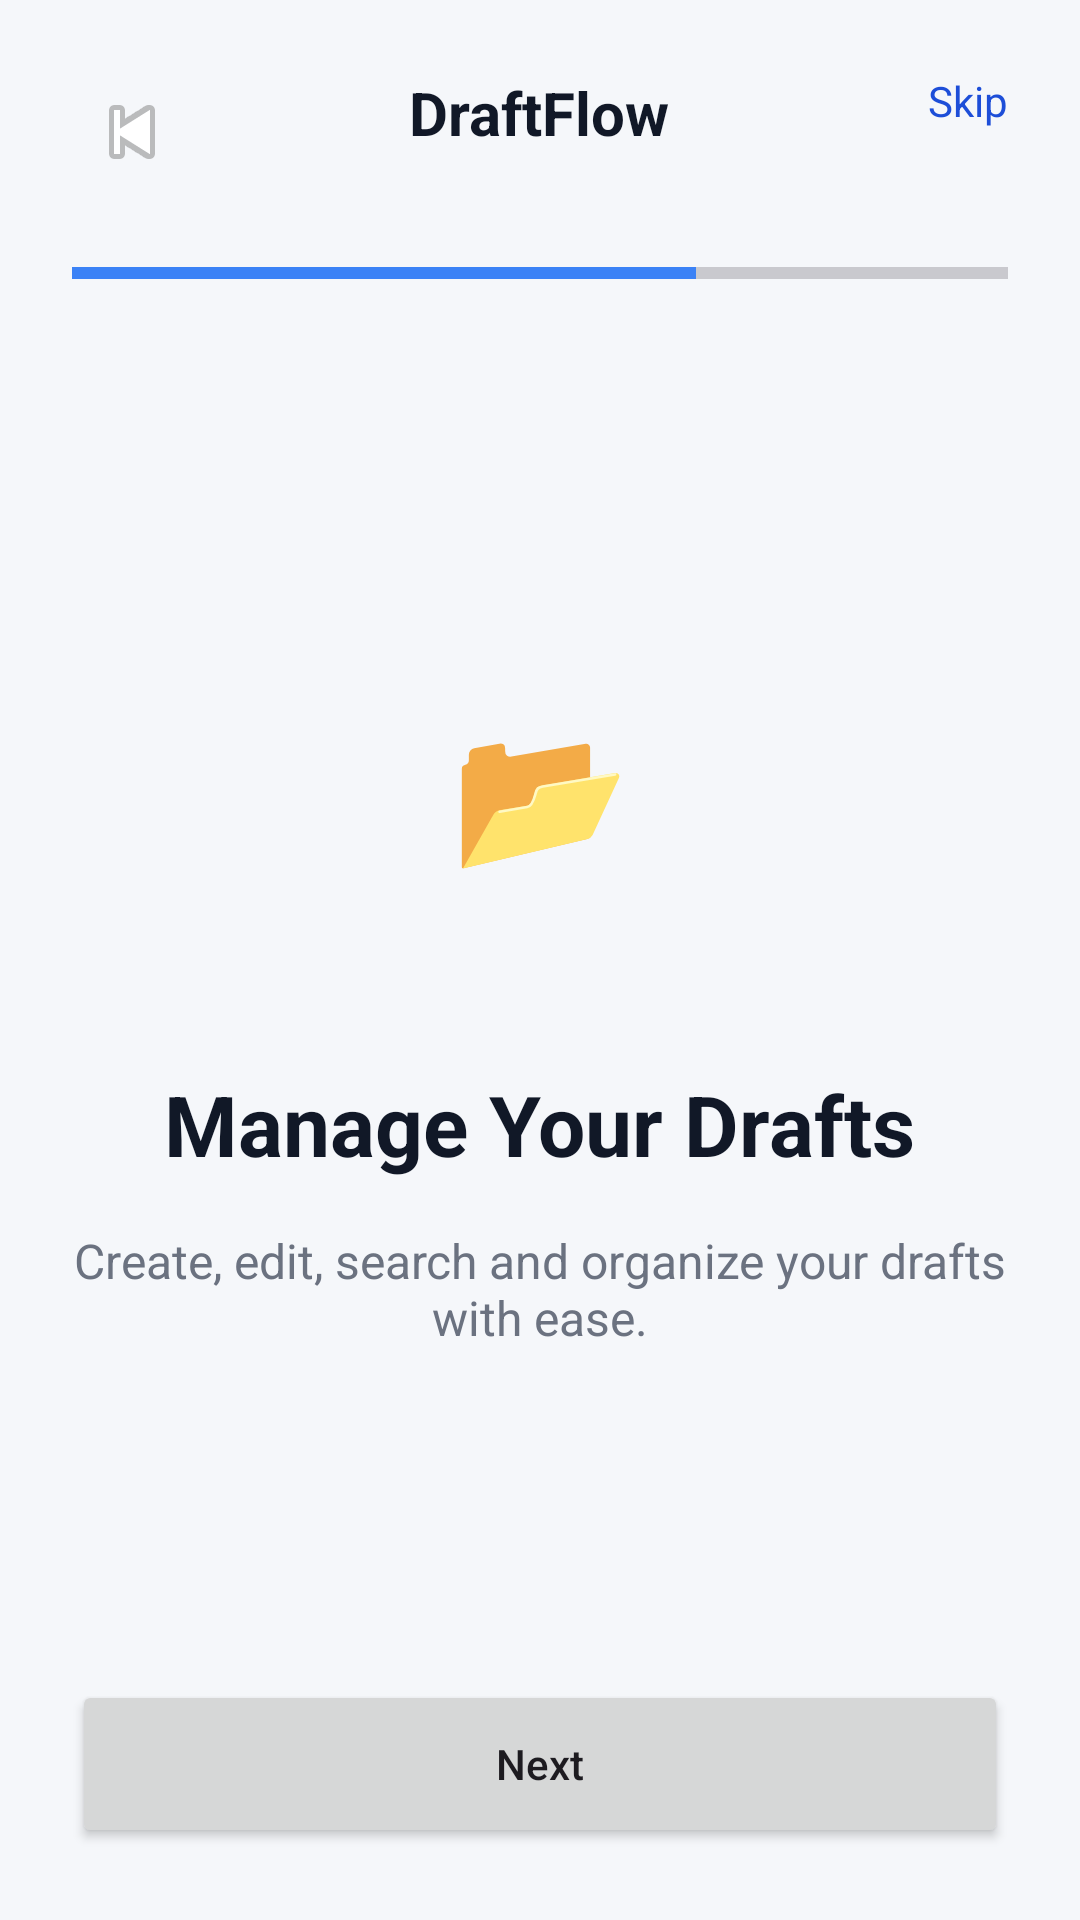

Named icons in this screenshot (1080px x 1920px) and their bounding boxes, [left=x1, top=y1, right=x2, bottom=y2]:
Back: [left=109, top=105, right=155, bottom=159]
